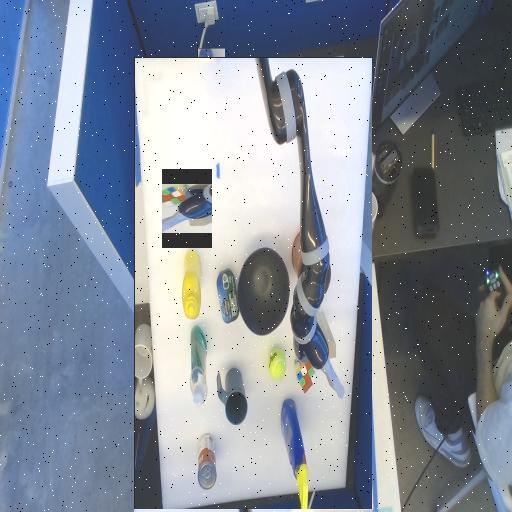bowl: (218, 233, 268, 318)
cleanser: (299, 193, 316, 209)
coffee_can: (176, 267, 214, 338)
jaco: (162, 184, 212, 232)
meat_can: (267, 244, 289, 298)
mug: (259, 143, 289, 199)
mustard_bottle: (305, 249, 324, 317)
rubik: (190, 174, 212, 217)
soup_can: (290, 97, 308, 115)
tennis_ball: (221, 188, 238, 218)
windex: (198, 49, 225, 167)
wooden_block: (170, 219, 195, 244)
workspace: (134, 58, 372, 509)
